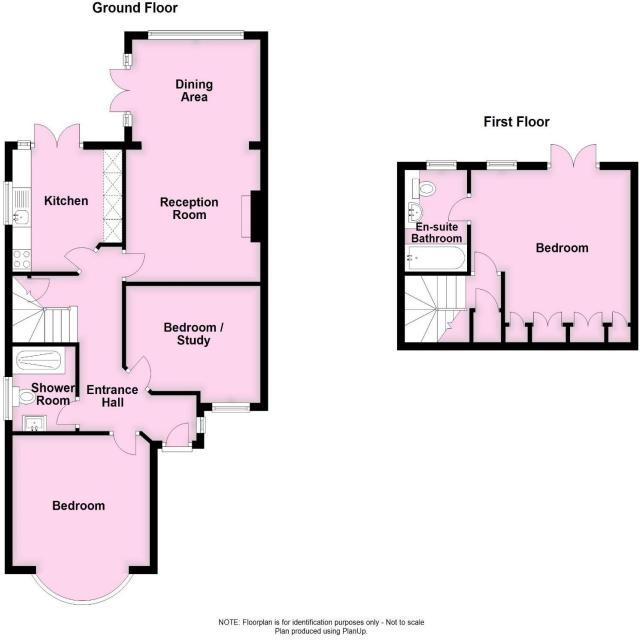DOOR: (125, 354, 152, 393), (63, 246, 99, 275), (161, 422, 193, 453), (121, 249, 146, 283), (470, 251, 502, 276), (108, 431, 140, 456), (56, 396, 80, 429), (448, 193, 471, 226)
DOUBLE DOOR: (32, 119, 85, 150), (548, 142, 602, 170), (106, 63, 133, 116)
ROOM: (108, 30, 269, 287), (448, 143, 639, 350), (4, 431, 158, 606), (122, 282, 268, 413), (4, 122, 128, 275)
WINDOW: (147, 29, 245, 40), (3, 376, 13, 422), (3, 181, 13, 225), (212, 402, 251, 413), (426, 160, 457, 171), (486, 161, 517, 171), (196, 416, 206, 434)
